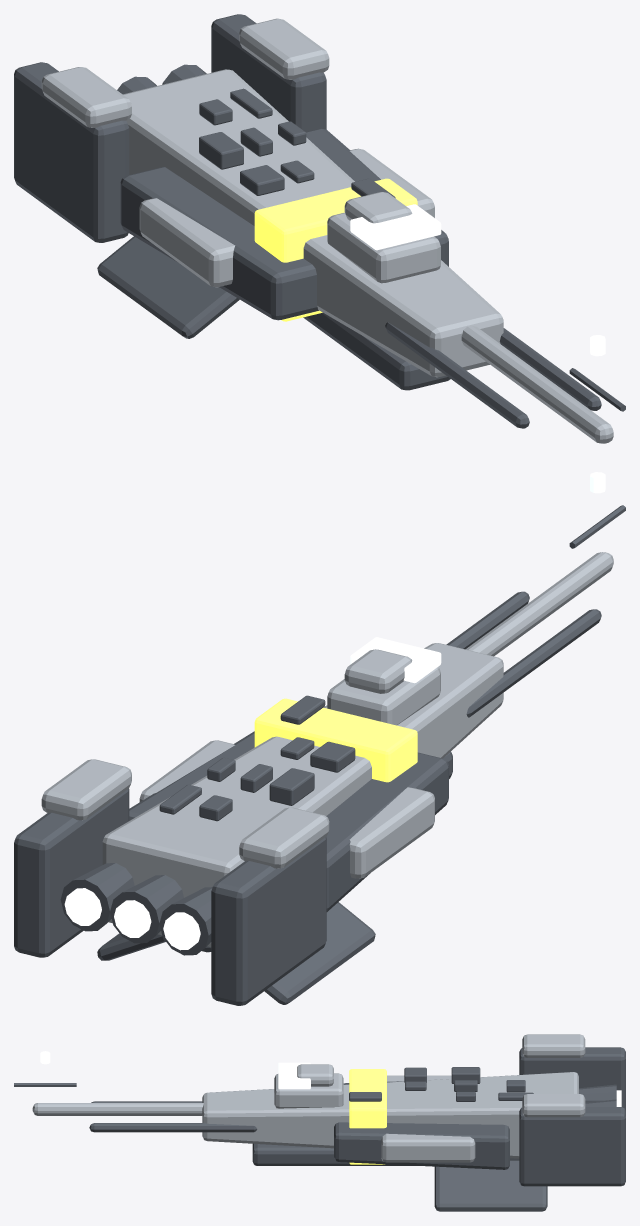
The model's file is se_destroyer.glb.
3 renders of one model, top to bottom at view 1: azimuth 30°, elevation 25°; view 2: azimuth 150°, elevation 25°; view 3: azimuth 270°, elevation 25°, orthographic. The views are drawn at different scales.
Parts seen in each view (by area): view 1: hull_main, brace_1, cargo, fin_1, cargo_wide, brace_-1, stripe, prong_c, bridge, brace_top_-1, brace_top_1, keel (+9 smaller); view 2: hull_main, brace_1, brace_-1, cargo, stripe, cargo_wide, fin_1, prong_c, brace_top_1, brace_top_-1, bridge, prong_r (+13 smaller); view 3: hull_main, brace_-1, cargo, fin_-1, brace_1, cargo_wide, prong_c, stripe, keel, bridge, prong_l, brace_top_1 (+8 smaller).
Boxes of the visible parts, x1,y1,x2,y2 form: hull_main: [123, 69, 503, 377]; brace_1: [14, 62, 129, 242]; cargo: [120, 128, 448, 320]; fin_1: [97, 236, 239, 338]; cargo_wide: [139, 148, 434, 287]; brace_-1: [211, 14, 326, 131]; stripe: [254, 178, 417, 321]; prong_c: [461, 325, 613, 443]; bridge: [327, 212, 440, 283]; brace_top_-1: [239, 18, 329, 79]; brace_top_1: [41, 67, 131, 127]; keel: [303, 312, 450, 390]; hull_main: [102, 643, 503, 947]; brace_1: [211, 836, 326, 1005]; brace_-1: [14, 788, 129, 957]; cargo: [129, 731, 448, 911]; stripe: [254, 698, 417, 782]; cargo_wide: [139, 740, 434, 878]; fin_1: [264, 902, 375, 1004]; prong_c: [465, 552, 613, 656]; brace_top_1: [239, 807, 329, 868]; brace_top_-1: [41, 759, 131, 820]; bridge: [327, 667, 440, 725]; prong_r: [466, 609, 601, 717]; hull_main: [202, 1072, 578, 1158]; brace_-1: [519, 1107, 625, 1186]; cargo: [334, 1081, 509, 1169]; fin_-1: [434, 1160, 547, 1211]; brace_1: [519, 1047, 625, 1110]; cargo_wide: [381, 1075, 475, 1162]; prong_c: [32, 1103, 203, 1115]; stripe: [349, 1069, 386, 1164]; keel: [252, 1143, 519, 1165]; bridge: [274, 1073, 343, 1108]; prong_l: [89, 1123, 257, 1132]; brace_top_1: [522, 1034, 585, 1057].
Bounding box in the file's own units: 0.138 × 0.1149 × 0.4875.
